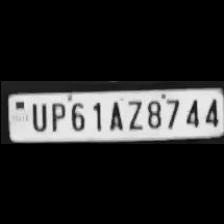1: (88, 98, 104, 132)
4: (182, 94, 200, 128), (202, 95, 220, 127)
6: (66, 99, 86, 131)
7: (162, 96, 180, 128)
8: (142, 96, 162, 128)
A: (104, 96, 124, 130)
P: (46, 99, 64, 131)
U: (27, 99, 47, 131)
Z: (122, 96, 142, 130)
